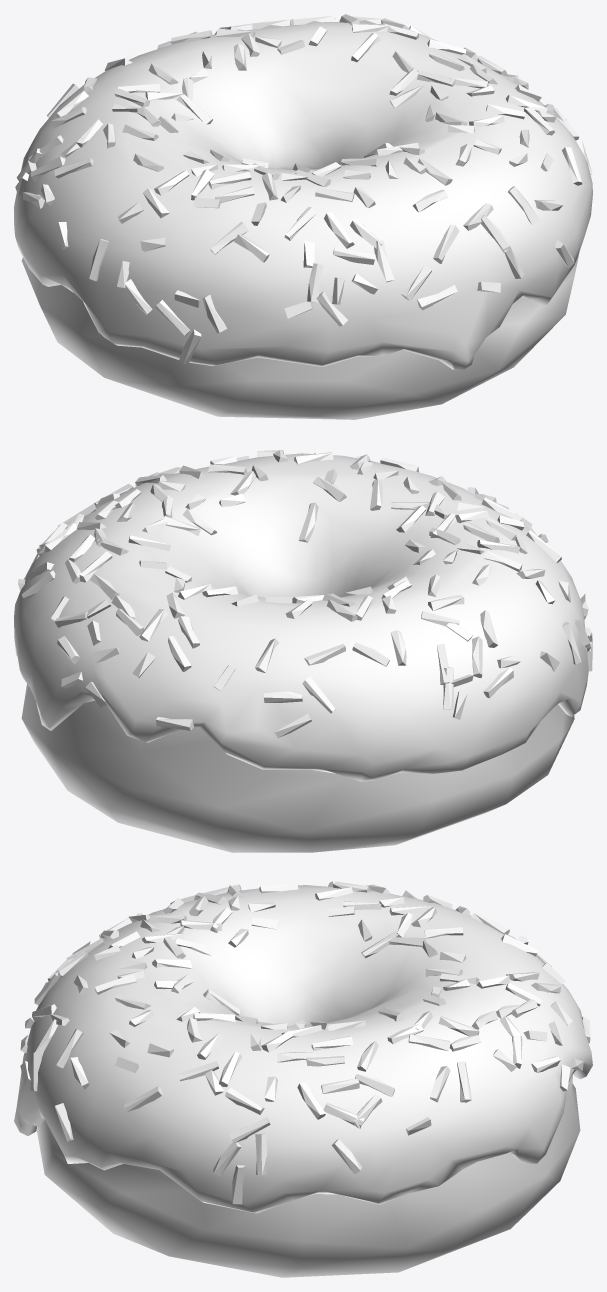
The model's file is donut_white_lesser2.gltf.
3 views of the same model, one above another, from view 1: azimuth 30°, elevation 25°; view 2: azimuth 150°, elevation 25°; view 3: azimuth 270°, elevation 25° (orthographic).
Visible parts, largest first — view 1: Icing, Dough; view 2: Icing, Dough; view 3: Icing, Dough.
Part boxes in pixels (left/top/right/bottom): Icing: left=14, top=14, right=592, bottom=369; Dough: left=21, top=253, right=579, bottom=419; Icing: left=14, top=448, right=592, bottom=781; Dough: left=21, top=684, right=574, bottom=852; Icing: left=14, top=881, right=592, bottom=1213; Dough: left=37, top=1074, right=580, bottom=1277.
Size of the model in its own units: 1.01 by 0.4718 by 1.02.
Materials: 1 (1 with a texture image).
